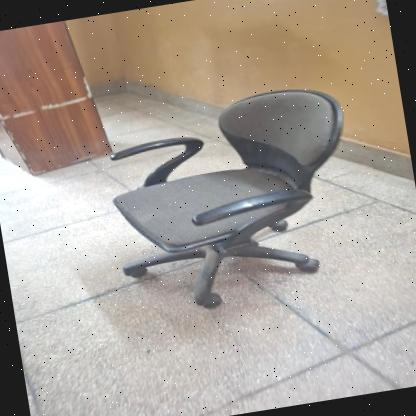chair: (86, 75, 376, 330)
